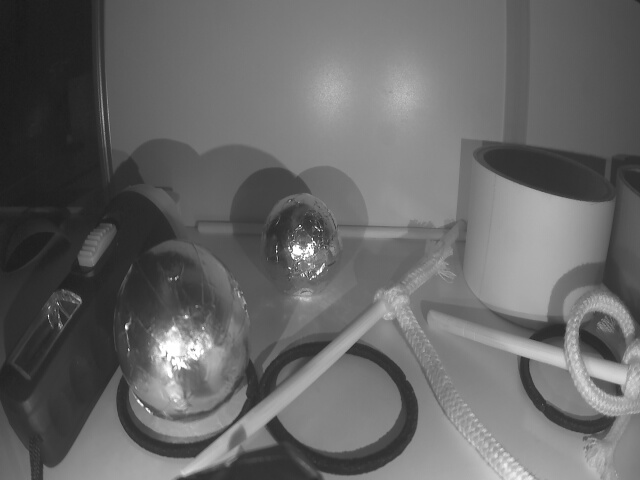Live: (114, 242, 250, 412), (266, 189, 338, 295)
